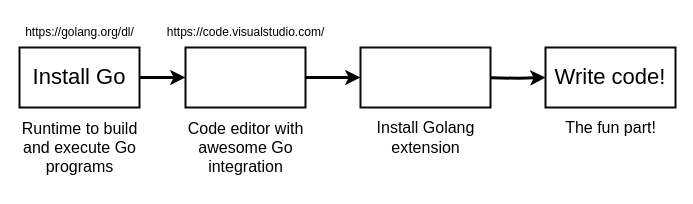
Some shapes in this 693 by 204 pixel diagram are drawn without their labels. The box of each missing label's shape, as (x1, y1, x2, y2) in pixels:
Configure VSCode: (359, 46, 491, 108)
Install VSCode: (184, 46, 306, 108)
